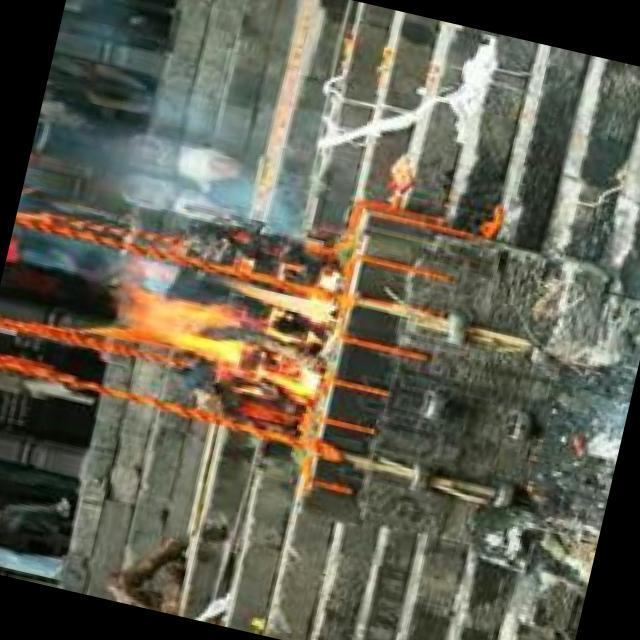Fire: (86, 211, 347, 399)
